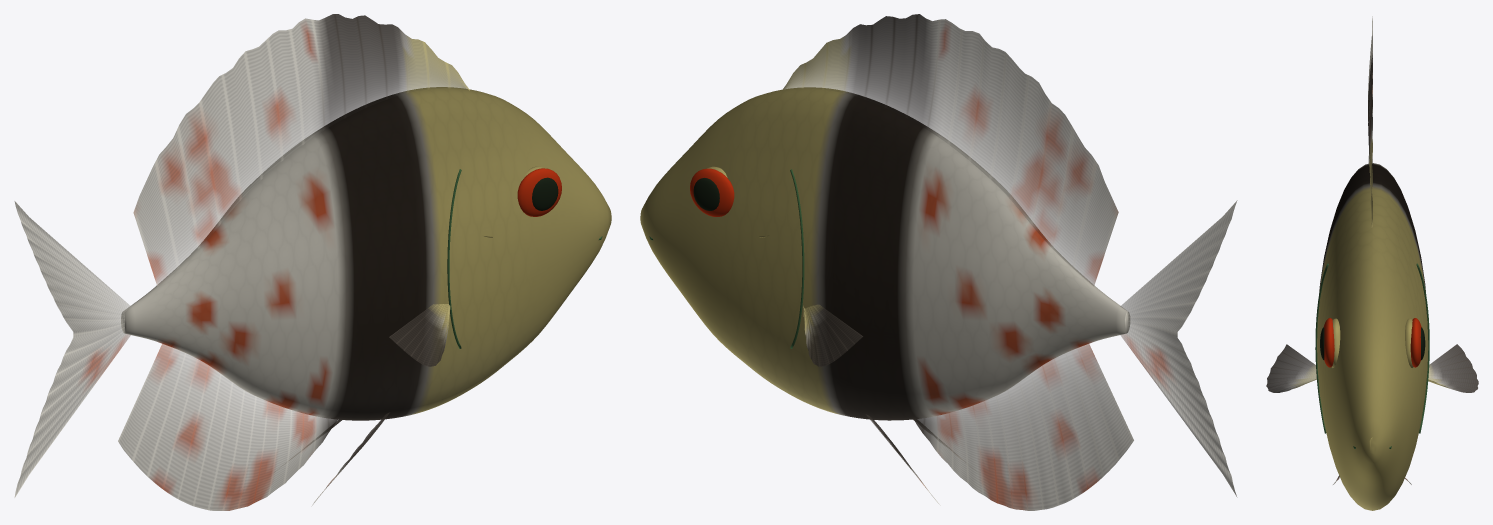
The model's file is cardinalfish.glb.
3 renders of one model, left to right at view 1: azimuth 30°, elevation 25°; view 2: azimuth 150°, elevation 25°; view 3: azimuth 270°, elevation 25°, orthographic. The views are drawn at different scales.
Parts seen in each view (by area): view 1: Body, Median_Fins, Pectoral_Left, Eyes_Gills_Mouth; view 2: Body, Median_Fins, Pectoral_Right, Eyes_Gills_Mouth; view 3: Body, Eyes_Gills_Mouth, Pectoral_Right, Pectoral_Left, Median_Fins.
Part boxes in pixels (<box>): Body: <box>121,87,611,420</box>; Median_Fins: <box>14,14,469,510</box>; Pectoral_Left: <box>389,304,450,366</box>; Eyes_Gills_Mouth: <box>447,166,602,348</box>; Body: <box>640,87,1129,420</box>; Median_Fins: <box>782,14,1237,510</box>; Pectoral_Right: <box>803,304,862,366</box>; Eyes_Gills_Mouth: <box>649,166,804,348</box>; Body: <box>1317,163,1428,510</box>; Eyes_Gills_Mouth: <box>1315,263,1429,448</box>; Pectoral_Right: <box>1428,344,1478,392</box>; Pectoral_Left: <box>1266,344,1316,392</box>; Median_Fins: <box>1333,16,1411,484</box>.
Size of the model in its own units: 0.62 by 0.4717 by 0.2009.
Materials: 5 (2 with a texture image).
